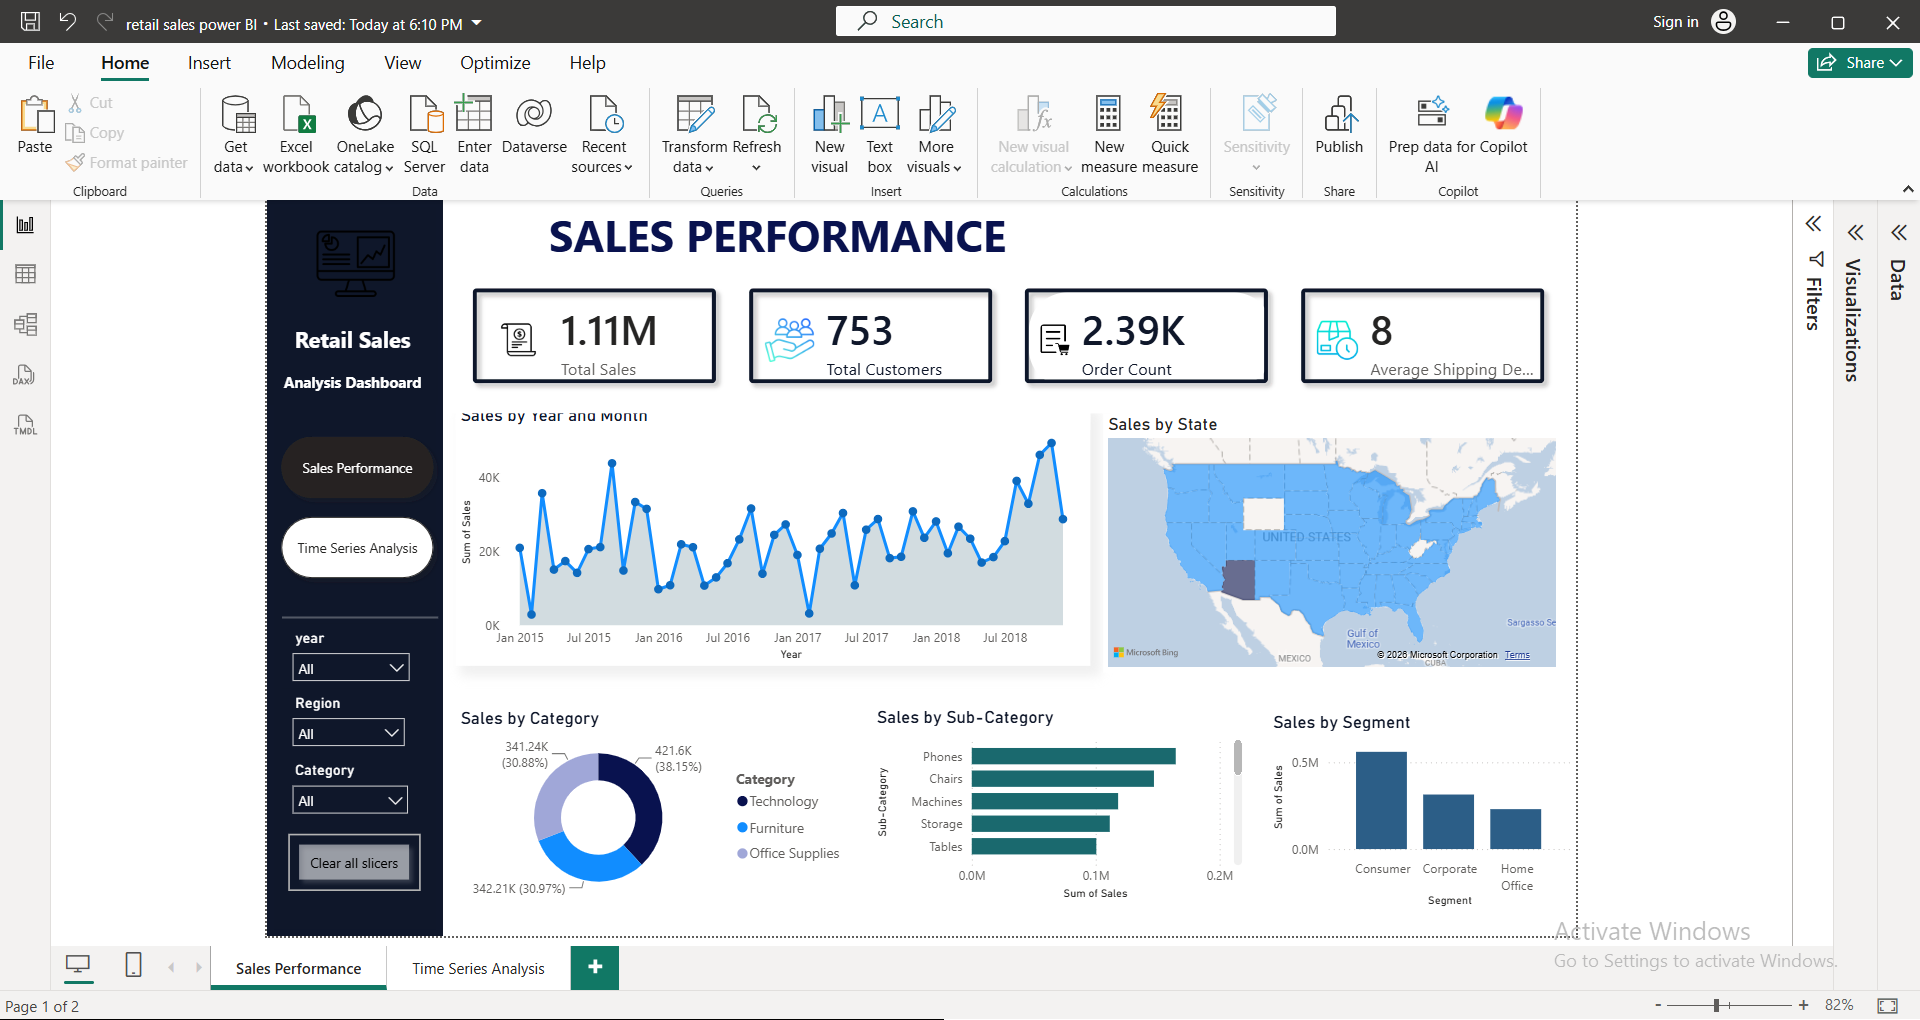

The dashboard page shown, as its layout file describes it:
{"tool":"powerbi","page":{"name":"Sales Performance","canvas":[1280,720],"ordinal":0},"visuals":[{"type":"textbox","box":[0,0,1280.3,74.6],"z":0},{"type":"shape","box":[0,0,172.3,720.5],"z":1000},{"type":"donutChart","fields":{"Category":["Sheet1.Category"],"Y":["Sum(Sheet1.Sales)"]},"box":[184.6,496.1,389.2,196.5],"z":1000,"group":"g1"},{"type":"pageNavigator","box":[4.9,222.6,167.5,156.5],"z":2000},{"type":"columnChart","title":"Sales by Segment","fields":{"Category":["Sheet1.Segment"],"Y":["Sum(Sheet1.Sales)"]},"box":[979,500.4,301.2,195.8],"z":2000,"group":"g1"},{"type":"areaChart","title":" Sales by Year and Month","fields":{"Category":["Sheet1.Order Month Name.Variation.Date Hierarchy.Year","Sheet1.Order Month Name.Variation.Date Hierarchy.Month"],"Y":["Sum(Sheet1.Sales)"]},"box":[184.6,200.5,621.2,255.6],"z":3000},{"type":"clusteredBarChart","title":"Sales by Sub-Category","fields":{"Y":["Sum(Sheet1.Sales)"],"Category":["Sheet1.Sub-Category"]},"box":[592.1,495.2,367.3,194.4],"z":3000,"group":"g1"},{"type":"slicer","fields":{"Values":["Sheet1.Category"]},"box":[14.7,544.2,133.3,66],"z":4000},{"type":"slicer","fields":{"Values":["Sheet1.Region"]},"box":[14.7,478.1,129.6,66],"z":5000},{"type":"slicer","fields":{"Values":["Sheet1.year"]},"box":[14.7,414.5,134.5,63.6],"z":6000},{"type":"actionButton","box":[20.8,620,129.6,56.3],"z":7000},{"type":"group","id":"g1","title":"Group 1","box":[184.6,495.2,1095.7,200.5],"z":8000},{"type":"textbox","box":[0,81.9,167.5,118.6],"z":9000},{"type":"shape","box":[14.7,359.5,152.9,97.8],"z":10000},{"type":"cardVisual","fields":{"Data":["Sheet1.Total Sales","Count(Sheet1.Customer ID)","Count(Sheet1.Order ID)","Avg(Sheet1.Shipping Delay)"]},"box":[172.4,62.4,1107.9,146.7],"z":11000},{"type":"image","box":[23.2,20.8,127.2,83.2],"z":12000},{"type":"filledMap","title":"Sales by State","fields":{"Category":["Sheet1.State"]},"box":[818.1,209.1,447.6,253.1],"z":13000}]}

Visuals, with their boxes on the page's 1280x720 design canvas (x1, y1, x2, y2). These are canvas units, not pixel positions in the 1920x1020 screenshot, which may show the page scaled, cropped or inside an application window:
textbox: bbox(0, 0, 1280, 75)
shape: bbox(0, 0, 172, 720)
donutChart - Sheet1.Category x Sum(Sheet1.Sales): bbox(185, 496, 574, 693)
pageNavigator: bbox(5, 223, 172, 379)
"Sales by Segment" columnChart: bbox(979, 500, 1280, 696)
" Sales by Year and Month" areaChart: bbox(185, 200, 806, 456)
"Sales by Sub-Category" clusteredBarChart: bbox(592, 495, 959, 690)
slicer - Sheet1.Category: bbox(15, 544, 148, 610)
slicer - Sheet1.Region: bbox(15, 478, 144, 544)
slicer - Sheet1.year: bbox(15, 414, 149, 478)
actionButton: bbox(21, 620, 150, 676)
"Group 1" group: bbox(185, 495, 1280, 696)
textbox: bbox(0, 82, 168, 200)
shape: bbox(15, 360, 168, 457)
cardVisual - Sheet1.Total Sales x Count(Sheet1.Customer ID): bbox(172, 62, 1280, 209)
image: bbox(23, 21, 150, 104)
"Sales by State" filledMap: bbox(818, 209, 1266, 462)
